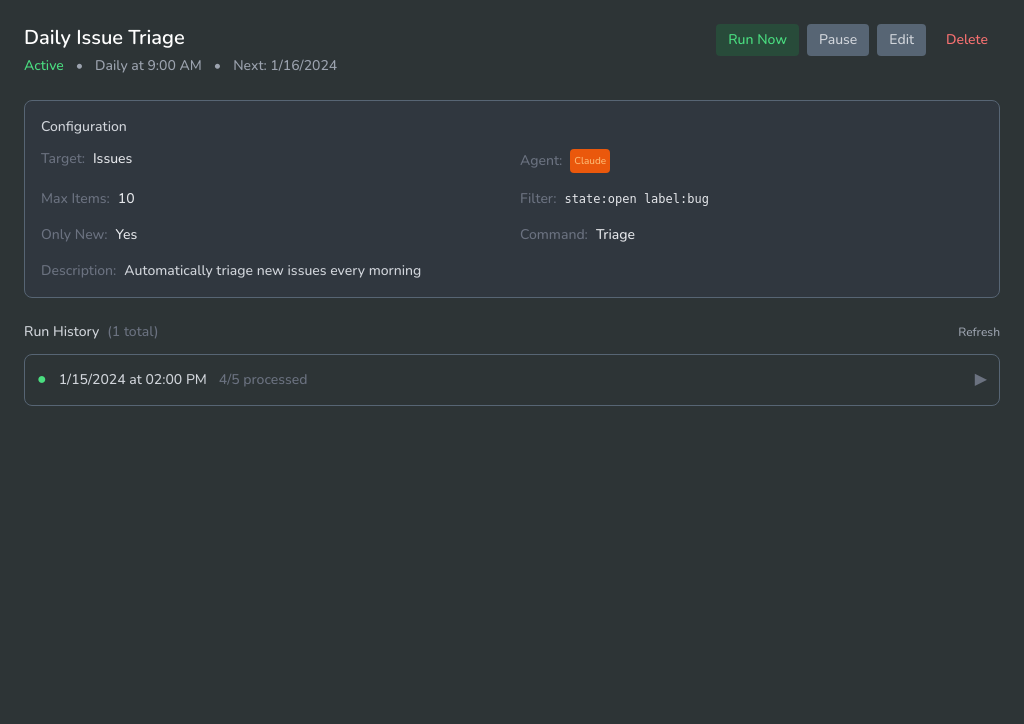
it: ScheduleDetail › Edit Mode › exits edit mode when Cancel is clicked
# Enter edit mode
Click the button "Edit" at (902, 40), box [877,24,926,56]
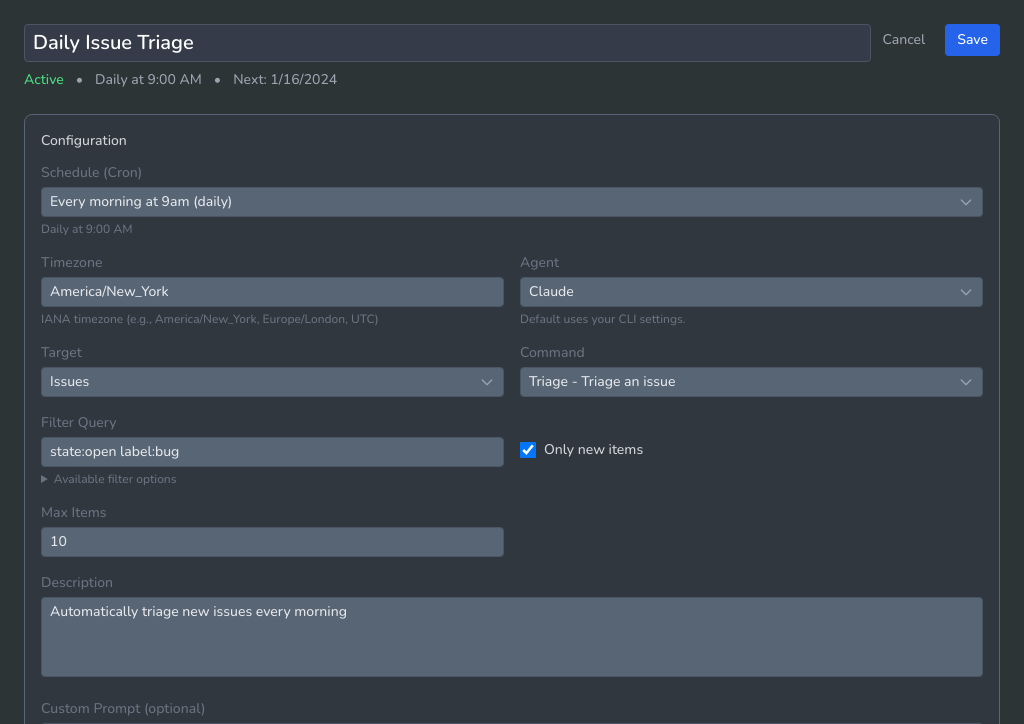
Expected: the button "Cancel" is shown
# Cancel edit
Click the button "Cancel" at (904, 40), box [870,24,937,56]
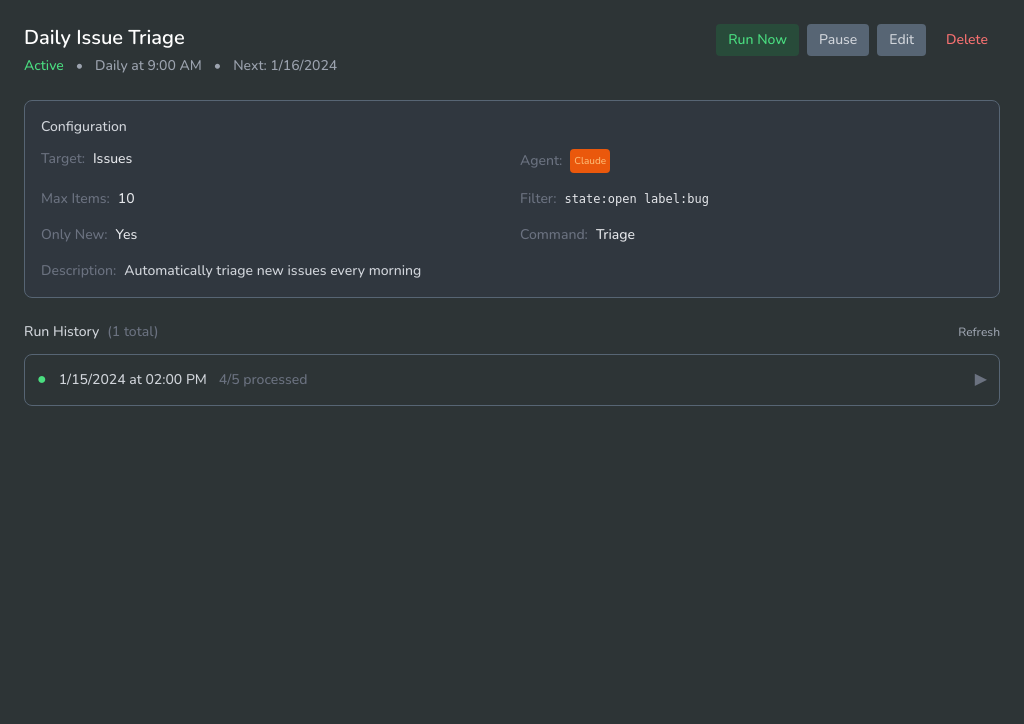
Expected: the button "Edit" is shown, [877,24,926,56]
Expected: the button "Cancel" is gone
